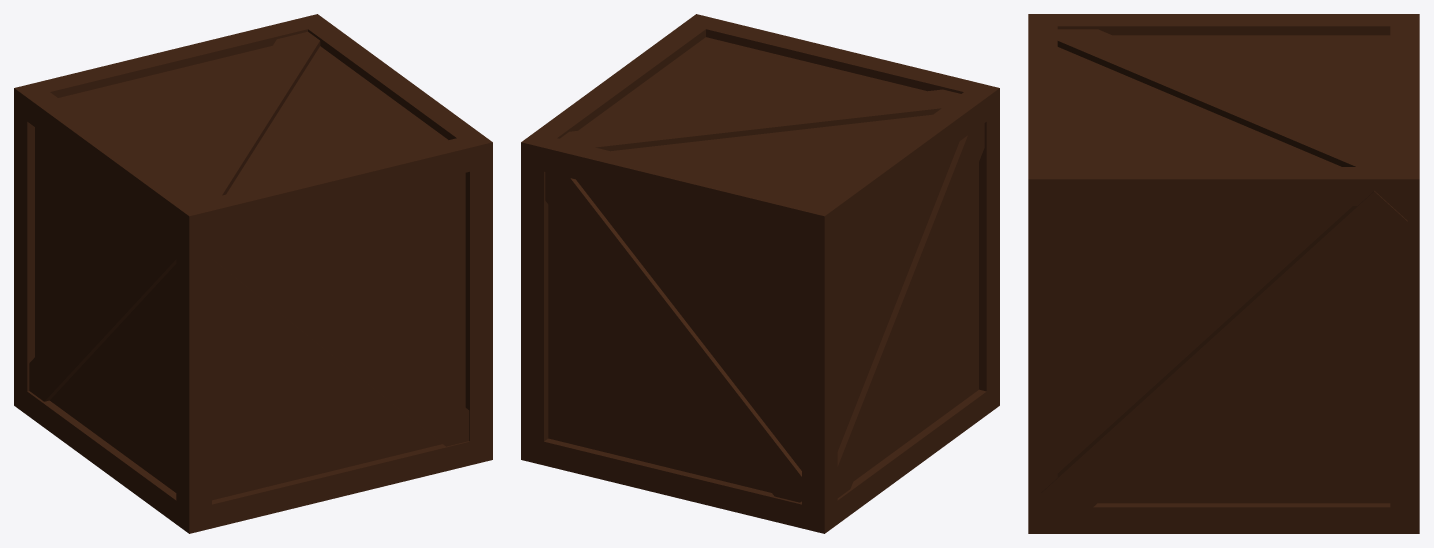
Rendered from kist.fbx.
3 renders of one model, left to right at view 1: azimuth 30°, elevation 25°; view 2: azimuth 150°, elevation 25°; view 3: azimuth 270°, elevation 25°, orthographic. The views are drawn at different scales.
Parts seen in each view (by area): view 1: KistBase, Kistplank; view 2: KistBase, Kistplank; view 3: KistBase, Kistplank.
Part boxes in pixels (x1=…): KistBase: x1=14, y1=14, x2=492, y2=533; Kistplank: x1=29, y1=31, x2=469, y2=446; KistBase: x1=521, y1=14, x2=999, y2=533; Kistplank: x1=545, y1=89, x2=984, y2=502; KistBase: x1=1028, y1=14, x2=1419, y2=533; Kistplank: x1=1041, y1=29, x2=1407, y2=523.
Size of the model in its own units: 125 by 124 by 124.
